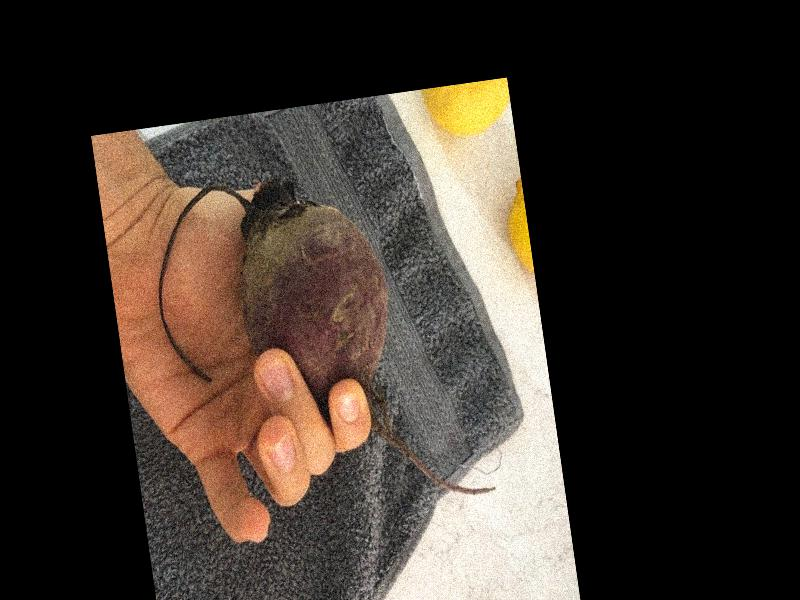Beet: (143, 155, 495, 534)
